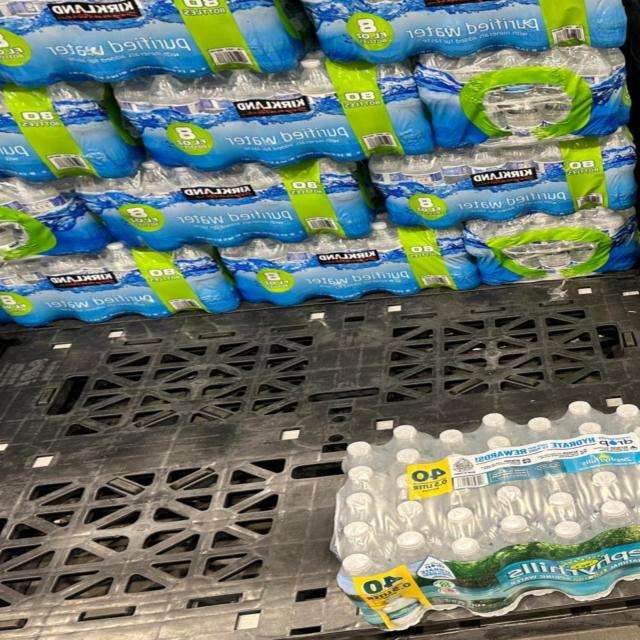igps: (3, 271, 640, 640)
